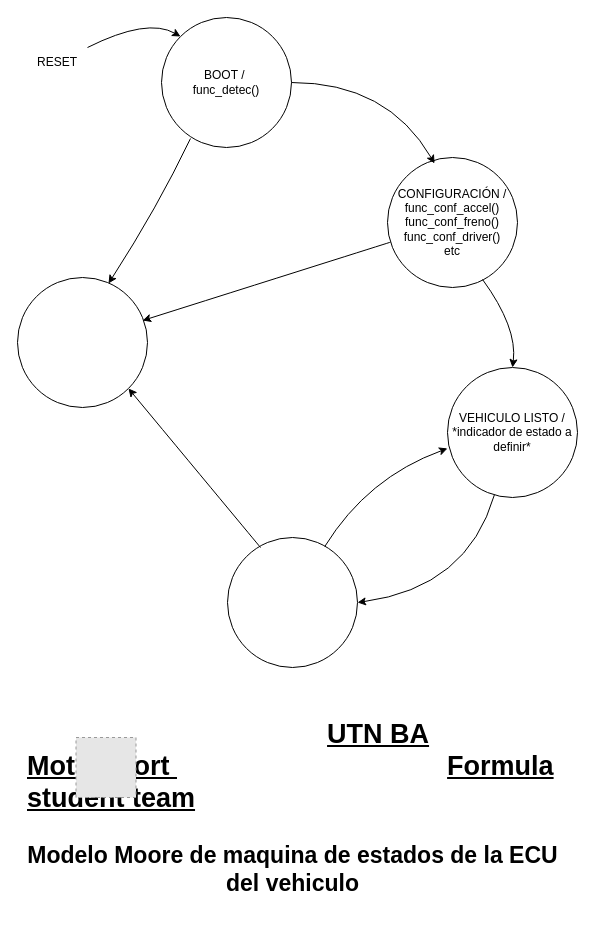
Some shapes in this 595 by 925 pixel diagram are drawn without their labels. Grey dashed boxes stand in for pictures. Here are the shapes that lost their labels. From the top down, the centre of each, then its label:
At [82,342]: "FALLA / func_indic_falla()".
At [292,602]: "VEHICULO ENCENDIDO / func_indic_on()".
